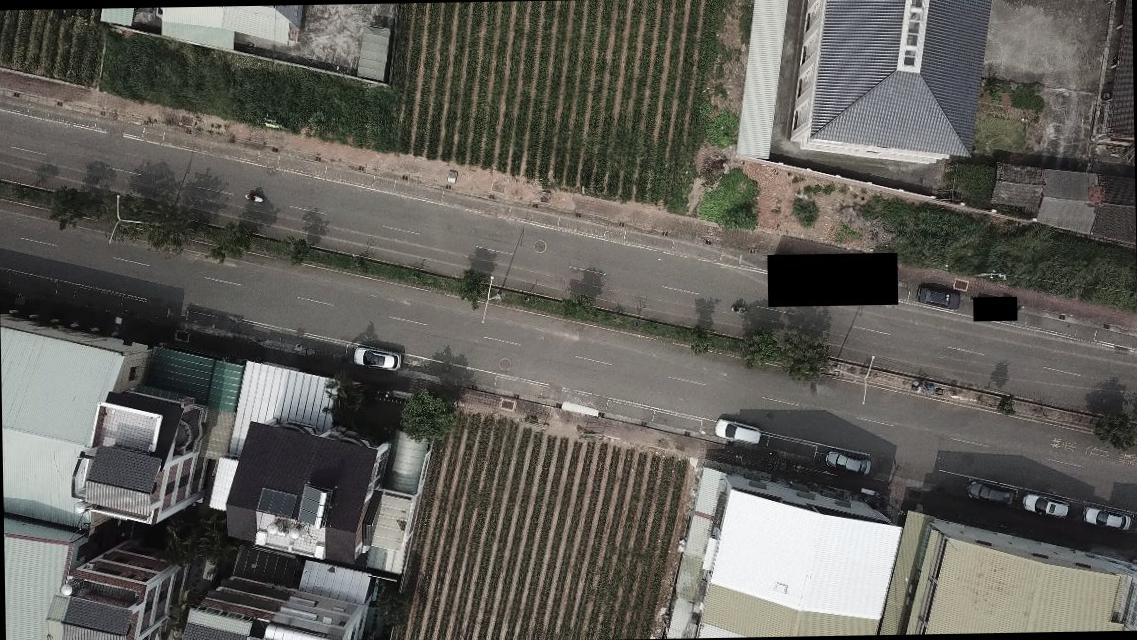vehicle: (1018, 486, 1071, 520), (962, 480, 1014, 510), (714, 416, 761, 446), (352, 342, 400, 371), (1080, 505, 1130, 532), (824, 448, 870, 474), (916, 284, 962, 309)
